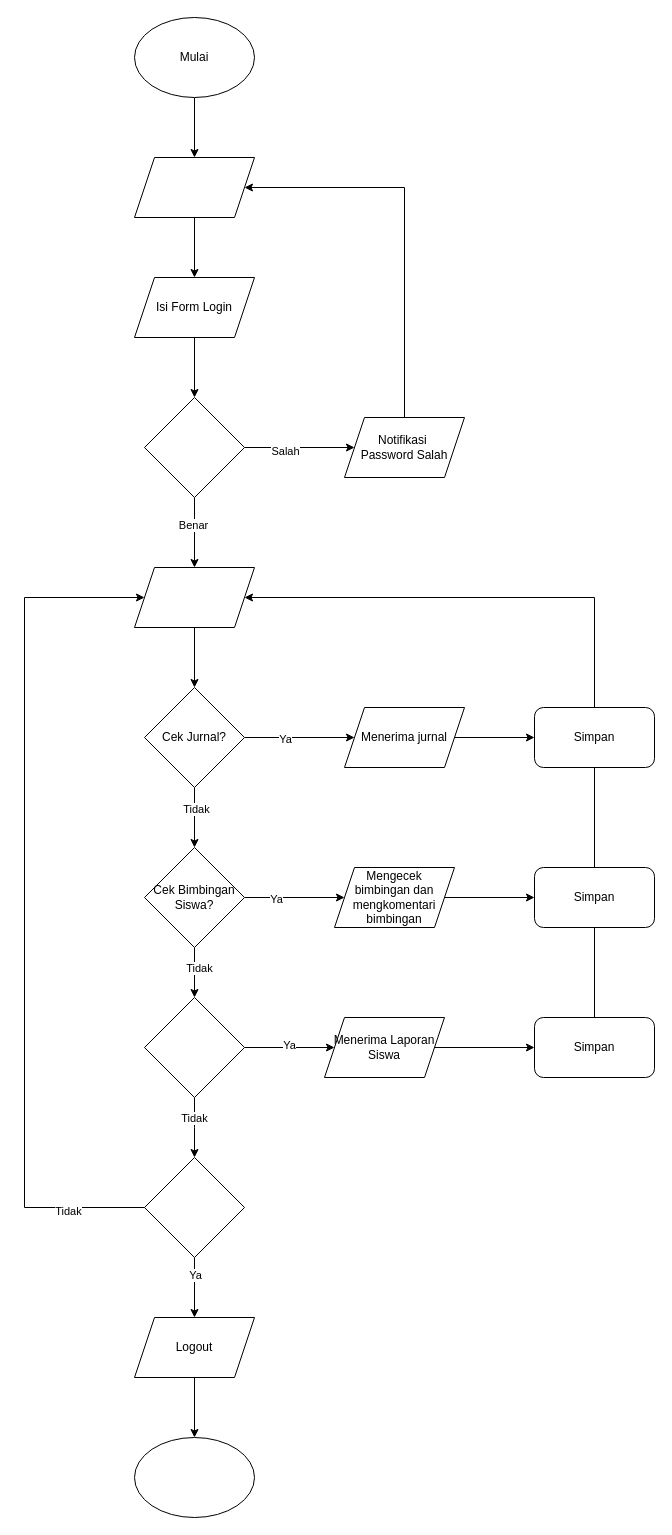
The diagram is 672 pixels wide and 1535 high, and some of its shapes have lost their labels. Each missing label, with the centre of its shape:
"Cek Laporan Siswa?" goes at (194,1047).
"Dashboard" goes at (194,597).
"Ingin Logout?" goes at (194,1207).
"Login" goes at (194,187).
"Selesai" goes at (194,1477).
"Verifikasi" goes at (194,447).
